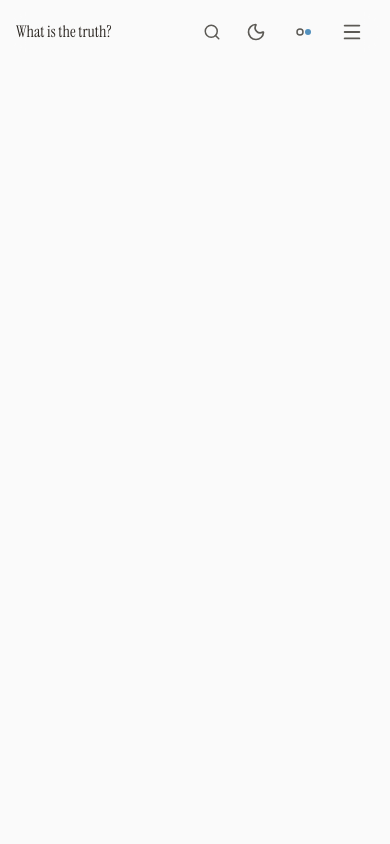
Test case: TopNav › klik hamburger otwiera MobileMenu drawer (aria-expanded → true)
This screenshot has width=390, height=844.
Click the button named "Menu": (352,32) [330,10,374,54]
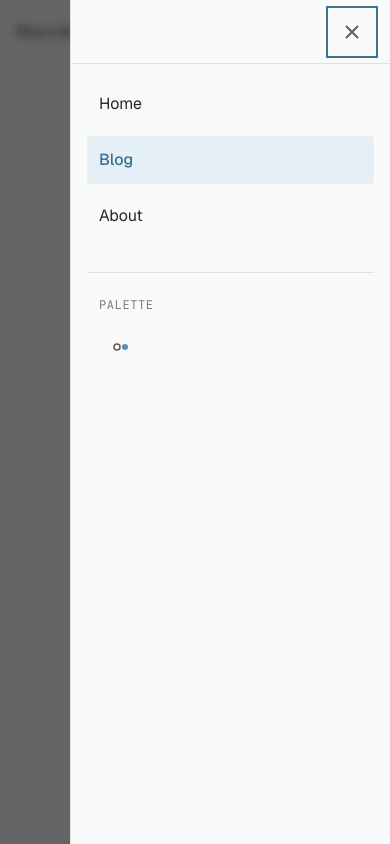
Expected: the button named "Menu" is expanded, [330,10,374,54]
Expected: the dialog named "Main menu" is shown
